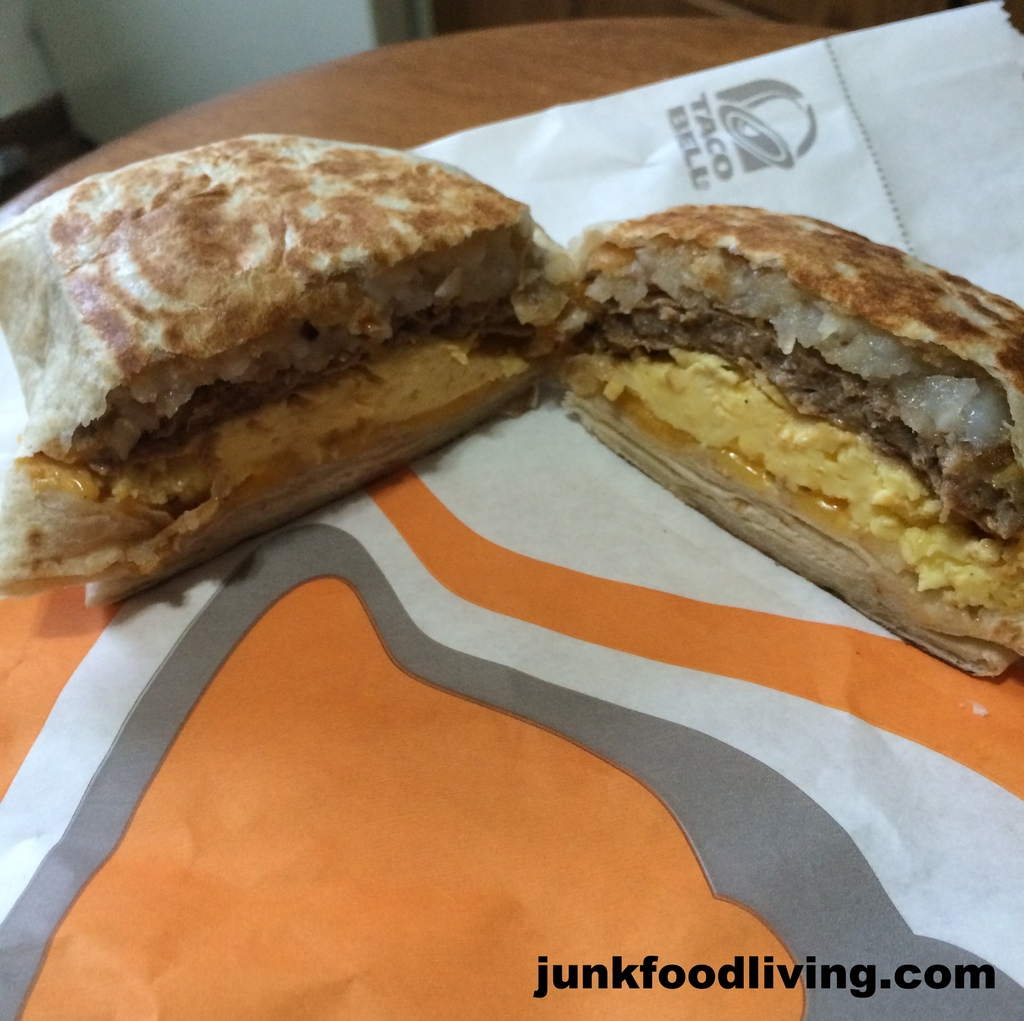Hamburger: (0, 128, 577, 602), (547, 208, 1023, 681)
